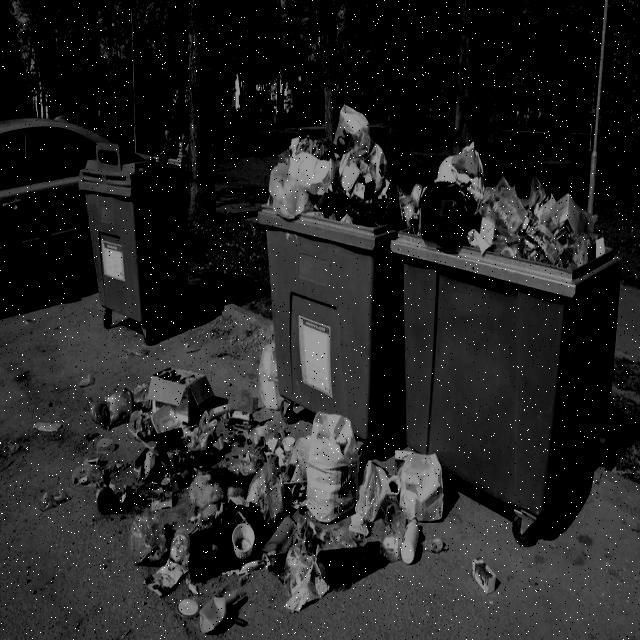Trashcan: (386, 142, 616, 538), (262, 110, 406, 449), (66, 138, 215, 356)
